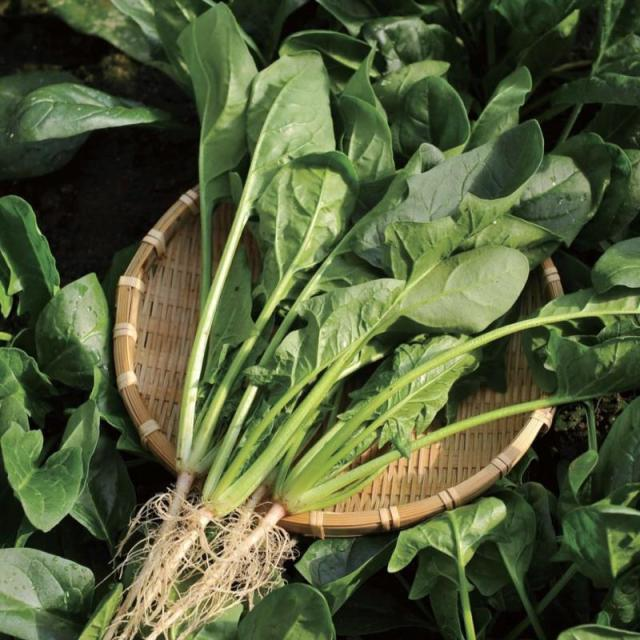Wet Waste: (157, 2, 640, 521)
